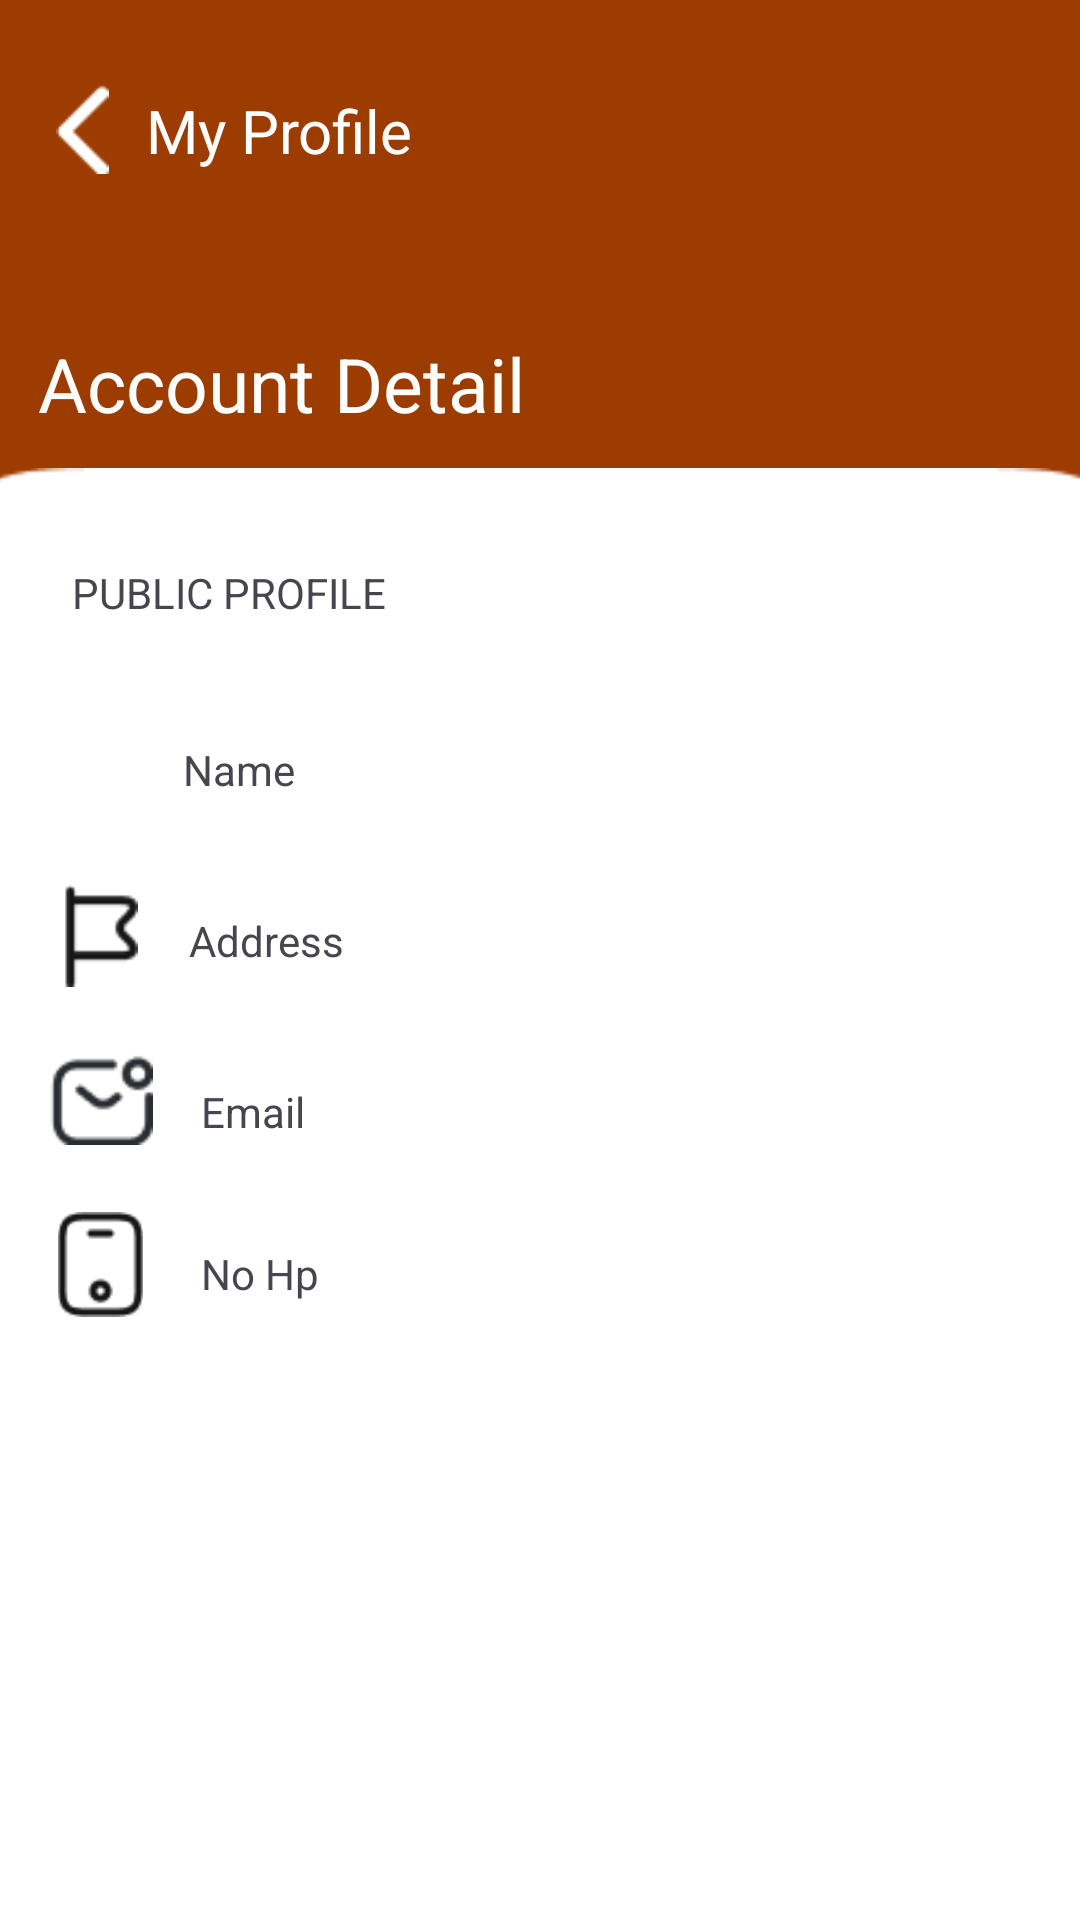

Icons on this 1080 × 1920 Android screen, each with its box as (x1, y1, x2, y2):
alamat: (65, 886, 138, 987)
arrowleft: (56, 86, 109, 174)
pesan: (52, 1056, 153, 1145)
